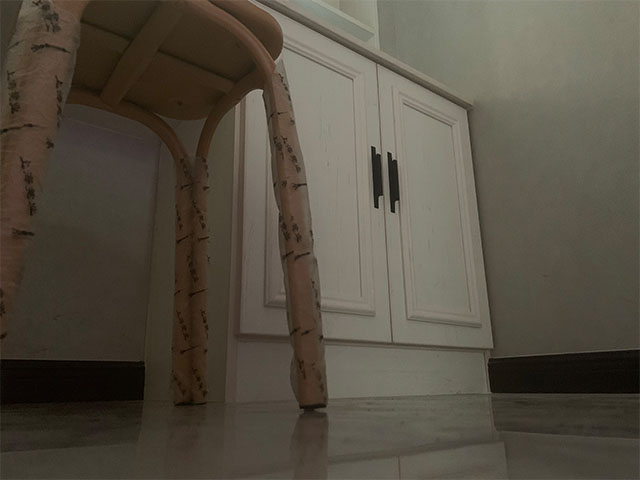cabinet: (239, 1, 501, 402)
stool: (1, 1, 328, 408)
